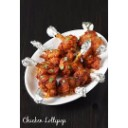chicken_lollipop: (42, 23, 79, 52), (27, 39, 66, 64), (77, 14, 103, 51), (22, 55, 58, 77), (72, 62, 107, 84), (59, 75, 91, 97)
